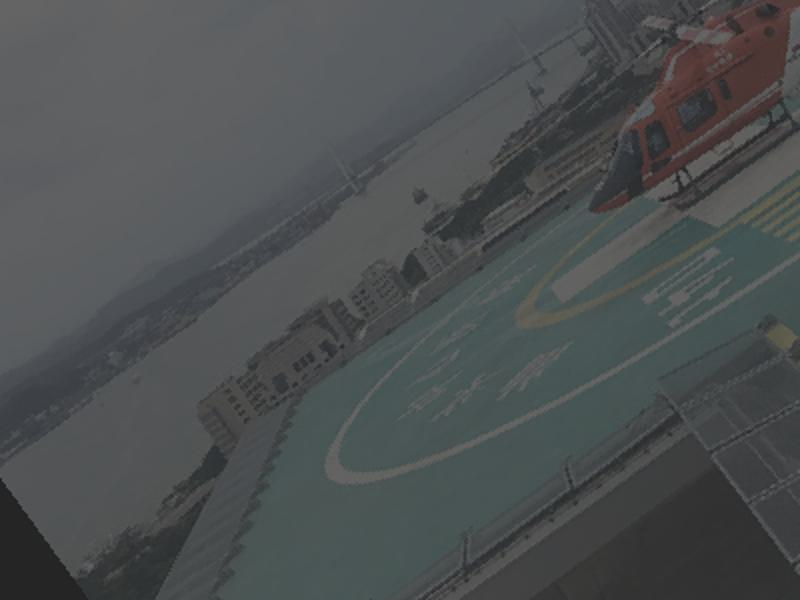Apron: (502, 147, 800, 335)
